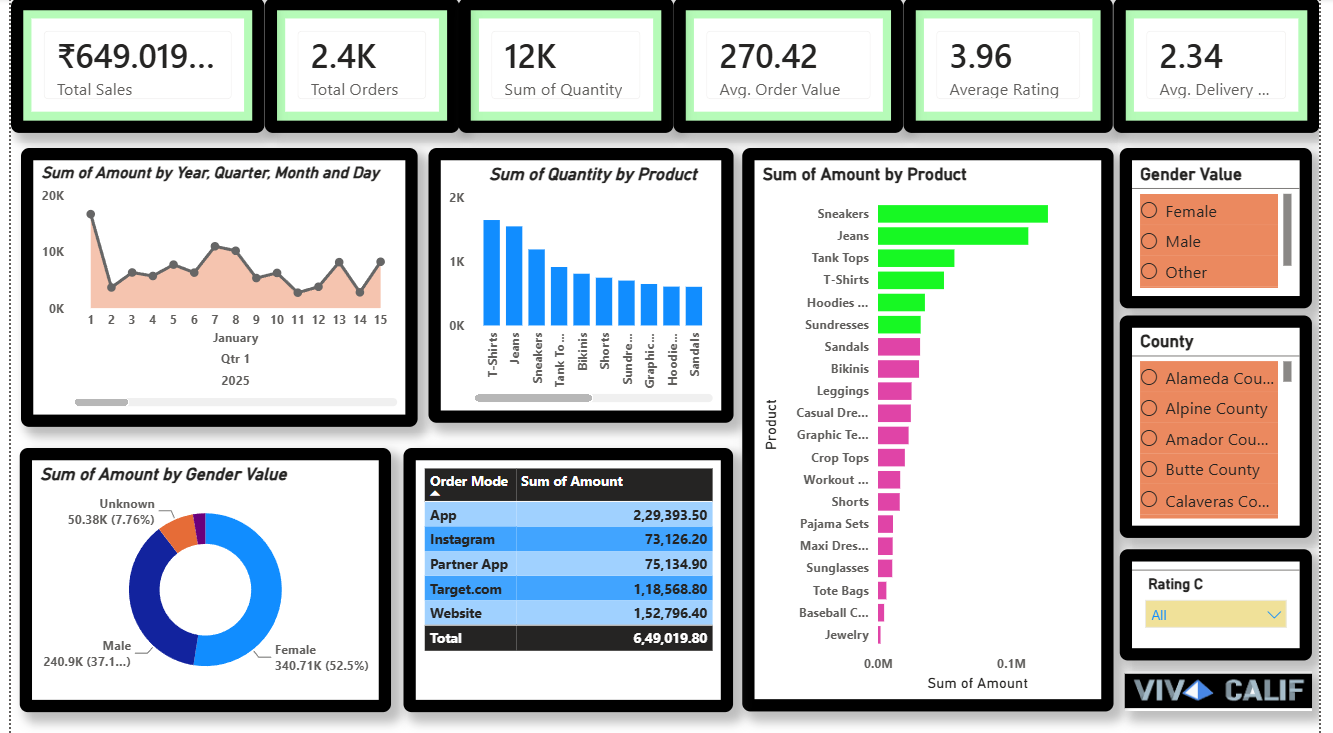

The page's visual inventory and layout, read from the dashboard file:
{"tool":"powerbi","page":{"name":"Page 1","canvas":[1280,720],"ordinal":0},"visuals":[{"type":"cardVisual","fields":{"Data":["Data.Total Sales"]},"box":[0,0,248.3,131.7],"z":0},{"type":"cardVisual","fields":{"Data":["Data.Total Orders"]},"box":[248.3,0,190,131.7],"z":1000},{"type":"cardVisual","fields":{"Data":["Sum(Data.Quantity)"]},"box":[438.3,0,210,131.7],"z":2000},{"type":"cardVisual","fields":{"Data":["Data.Average Order Value"]},"box":[648.3,0,225,131.7],"z":3000},{"type":"cardVisual","fields":{"Data":["Data.Average Rating"]},"box":[873.3,0,205,131.7],"z":4000},{"type":"cardVisual","fields":{"Data":["Avg(Data.Days to Deliver)"]},"box":[1078.3,0,201.7,131.7],"z":5000},{"type":"lineChart","fields":{"Category":["Data.Order Date.Variation.Date Hierarchy.Year","Data.Order Date.Variation.Date Hierarchy.Quarter","Data.Order Date.Variation.Date Hierarchy.Month","Data.Order Date.Variation.Date Hierarchy.Day"],"Y":["Sum(Data.Amount)"]},"box":[10,147,388,272.6],"z":6000},{"type":"donutChart","fields":{"Category":["Data.Gender Value"],"Y":["Sum(Data.Amount)"]},"box":[8.6,440.2,363.2,258],"z":7000},{"type":"clusteredColumnChart","fields":{"Category":["Data.Product"],"Y":["Sum(Data.Quantity)"]},"box":[408,147,298,268.6],"z":8000},{"type":"clusteredBarChart","fields":{"Category":["Data.Product"],"Y":["Sum(Data.Amount)"]},"box":[715.4,146.7,363.2,551.5],"z":9000},{"type":"tableEx","fields":{"Values":["Data.Order Mode","Sum(Data.Amount)"]},"box":[384,440,322,258],"z":10000},{"type":"listSlicer","fields":{"Values":["Data.Gender Value"]},"box":[1085,147,188,157],"z":11000},{"type":"listSlicer","fields":{"Values":["Data.County"]},"box":[1084.7,310.6,188.3,217.7],"z":12000},{"type":"slicer","fields":{"Values":["Data.Rating C"]},"box":[1084.7,539.3,188.3,108.8],"z":12001},{"type":"image","box":[1089.5,657.9,183.4,40.4],"z":12003}]}

Visuals, with their boxes in screenshot pixels (x1, y1, x2, y2), scaled from the page's 1280x720 canvas onto the 1333x733 screenshot:
cardVisual - Data.Total Sales: pyautogui.locateOnScreen(0, 0, 259, 134)
cardVisual - Data.Total Orders: pyautogui.locateOnScreen(259, 0, 456, 134)
cardVisual - Sum(Data.Quantity): pyautogui.locateOnScreen(456, 0, 675, 134)
cardVisual - Data.Average Order Value: pyautogui.locateOnScreen(675, 0, 909, 134)
cardVisual - Data.Average Rating: pyautogui.locateOnScreen(909, 0, 1123, 134)
cardVisual - Avg(Data.Days to Deliver): pyautogui.locateOnScreen(1123, 0, 1332, 134)
lineChart - Data.Order Date.Variation.Date Hierarchy.Year x Data.Order Date.Variation.Date Hierarchy.Quarter: pyautogui.locateOnScreen(10, 150, 414, 427)
donutChart - Data.Gender Value x Sum(Data.Amount): pyautogui.locateOnScreen(9, 448, 387, 711)
clusteredColumnChart - Data.Product x Sum(Data.Quantity): pyautogui.locateOnScreen(425, 150, 735, 423)
clusteredBarChart - Data.Product x Sum(Data.Amount): pyautogui.locateOnScreen(745, 149, 1123, 711)
tableEx - Data.Order Mode x Sum(Data.Amount): pyautogui.locateOnScreen(400, 448, 735, 711)
listSlicer - Data.Gender Value: pyautogui.locateOnScreen(1130, 150, 1326, 309)
listSlicer - Data.County: pyautogui.locateOnScreen(1130, 316, 1326, 538)
slicer - Data.Rating C: pyautogui.locateOnScreen(1130, 549, 1326, 660)
image: pyautogui.locateOnScreen(1135, 670, 1326, 711)
